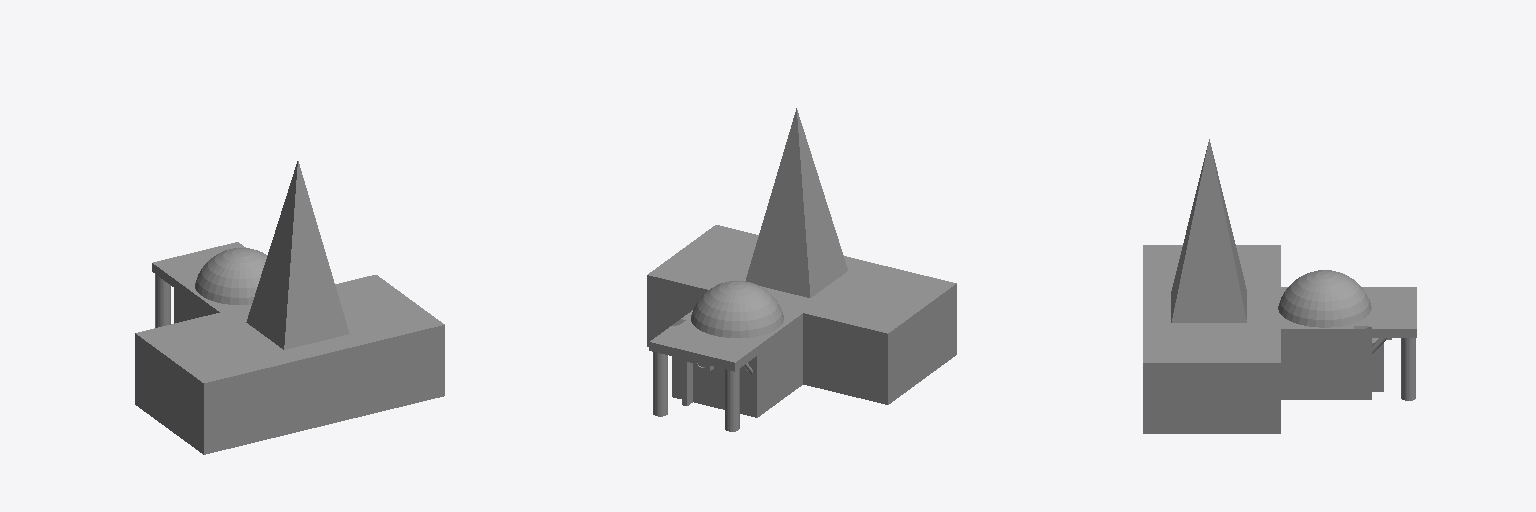
Rendered from TownHall.obj.
3 renders of one model, left to right at view 1: azimuth 30°, elevation 25°; view 2: azimuth 150°, elevation 25°; view 3: azimuth 270°, elevation 25°, orthographic.
Parts seen in each view (by area): view 1: Cube; view 2: Cube; view 3: Cube.
Part boxes in pixels (x1,y1,x2,y2): Cube: (135,161,444,454); Cube: (647,108,956,431); Cube: (1143,139,1416,433).
Bounding box in the file's own units: 36.59 × 35.05 × 35.96.